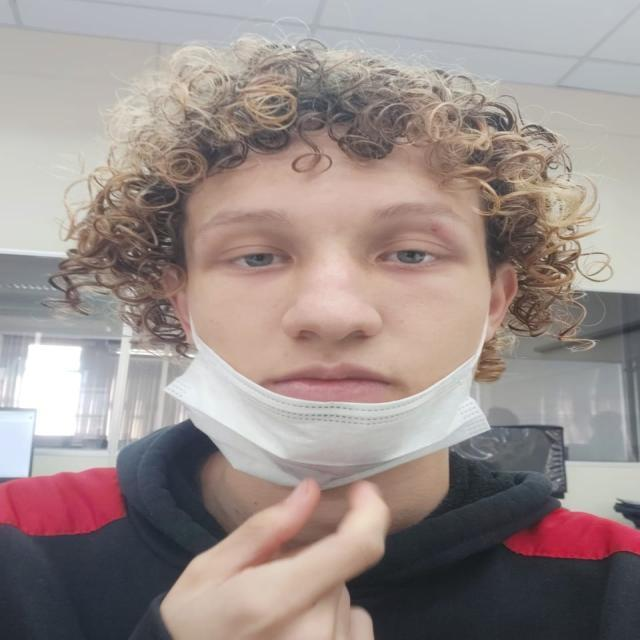hairnet: (188, 180, 486, 478)
